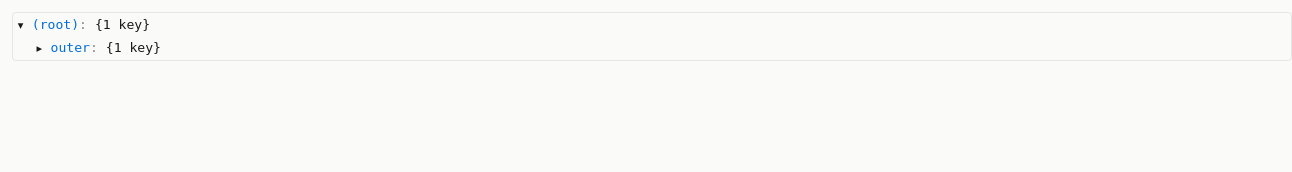
TreeView › hides nested children until the user expands the parent
The image size is (1292, 172).
Check: the text "inner" is not shown
Check: the list item "outer" is shown, box x1=50 y1=38 x2=1284 y2=58
What coordinates should you click on to do the following:
click the button named "Expand"
I would click on:
 (39, 49)
Its box is x1=32 y1=42 x2=47 y2=55.
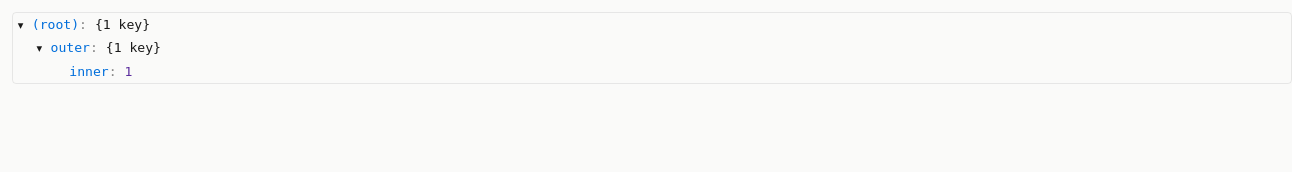
Check: the text "inner" is shown, box x1=69 y1=64 x2=109 y2=79
